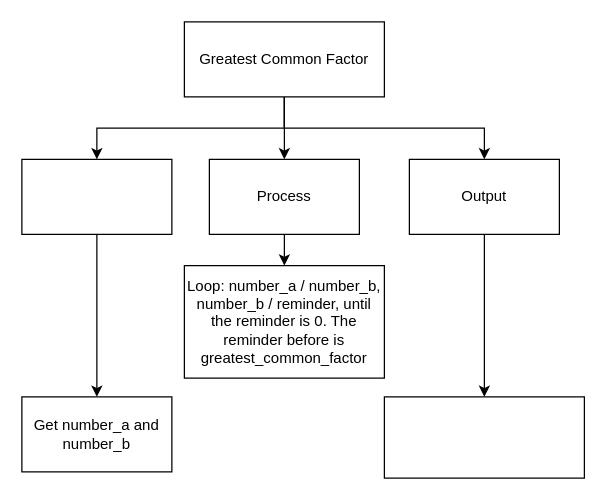
Some shapes in this 606 by 500 pixel diagram are drawn without their labels. Here are the shapes that lost their labels. From the top down, the box of each, then its label:
(21, 158, 172, 234): Input
(383, 396, 584, 478): Show greatest_common_factor
